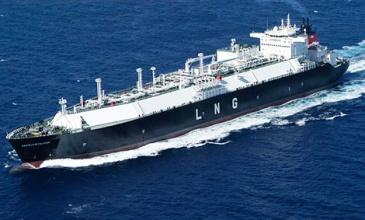Cargoship: (8, 15, 352, 159)
